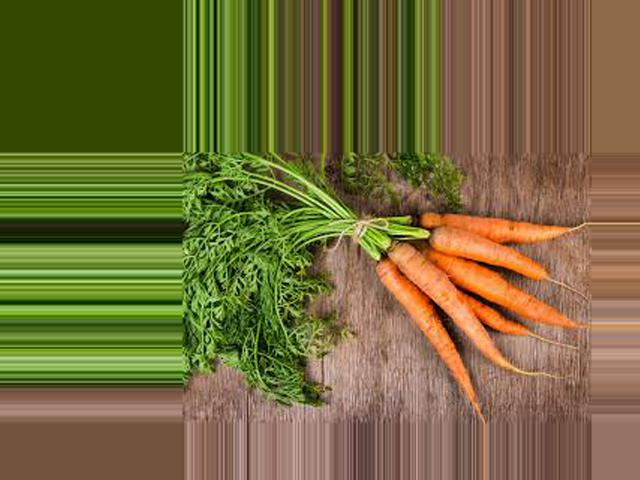carrot: (412, 208, 553, 287)
